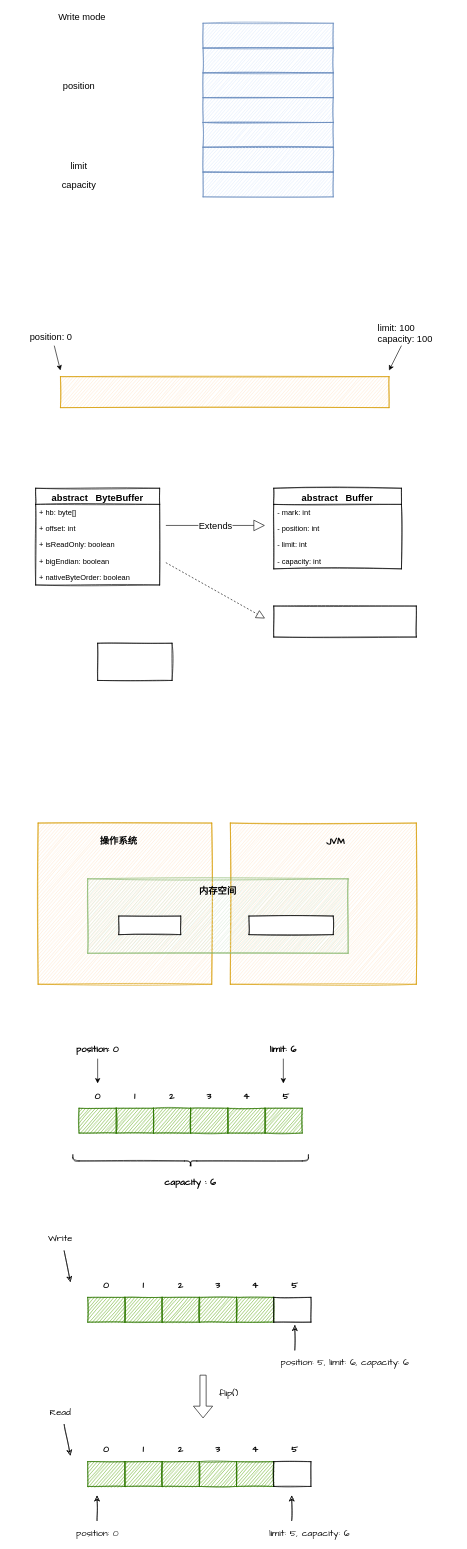
The diagram is 467 pixels wide and 1549 high, and some of its shapes have lost their labels. Here are the shapes that lost their labels. From the top down, the centre of each, then its label:
the point at 344,621: «interface» Comparable<ByteBuffer>
the point at 149,925: OS Buffer
the point at 290,925: Java Heap Buffer
